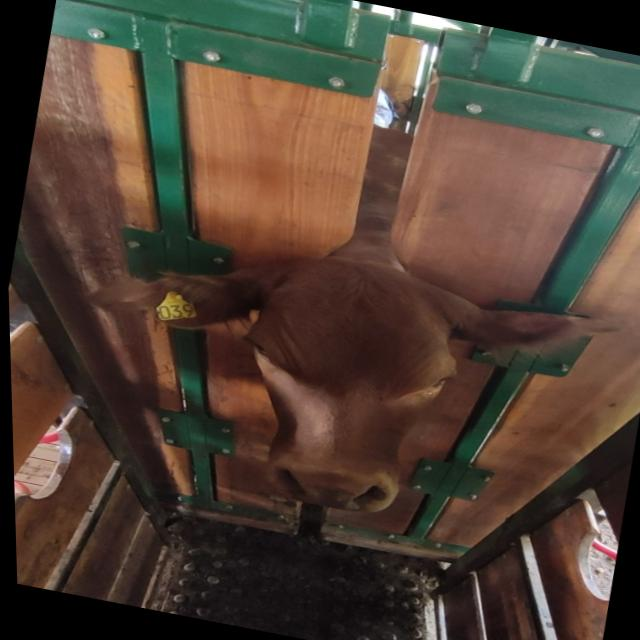cowFace: (211, 244, 475, 525)
